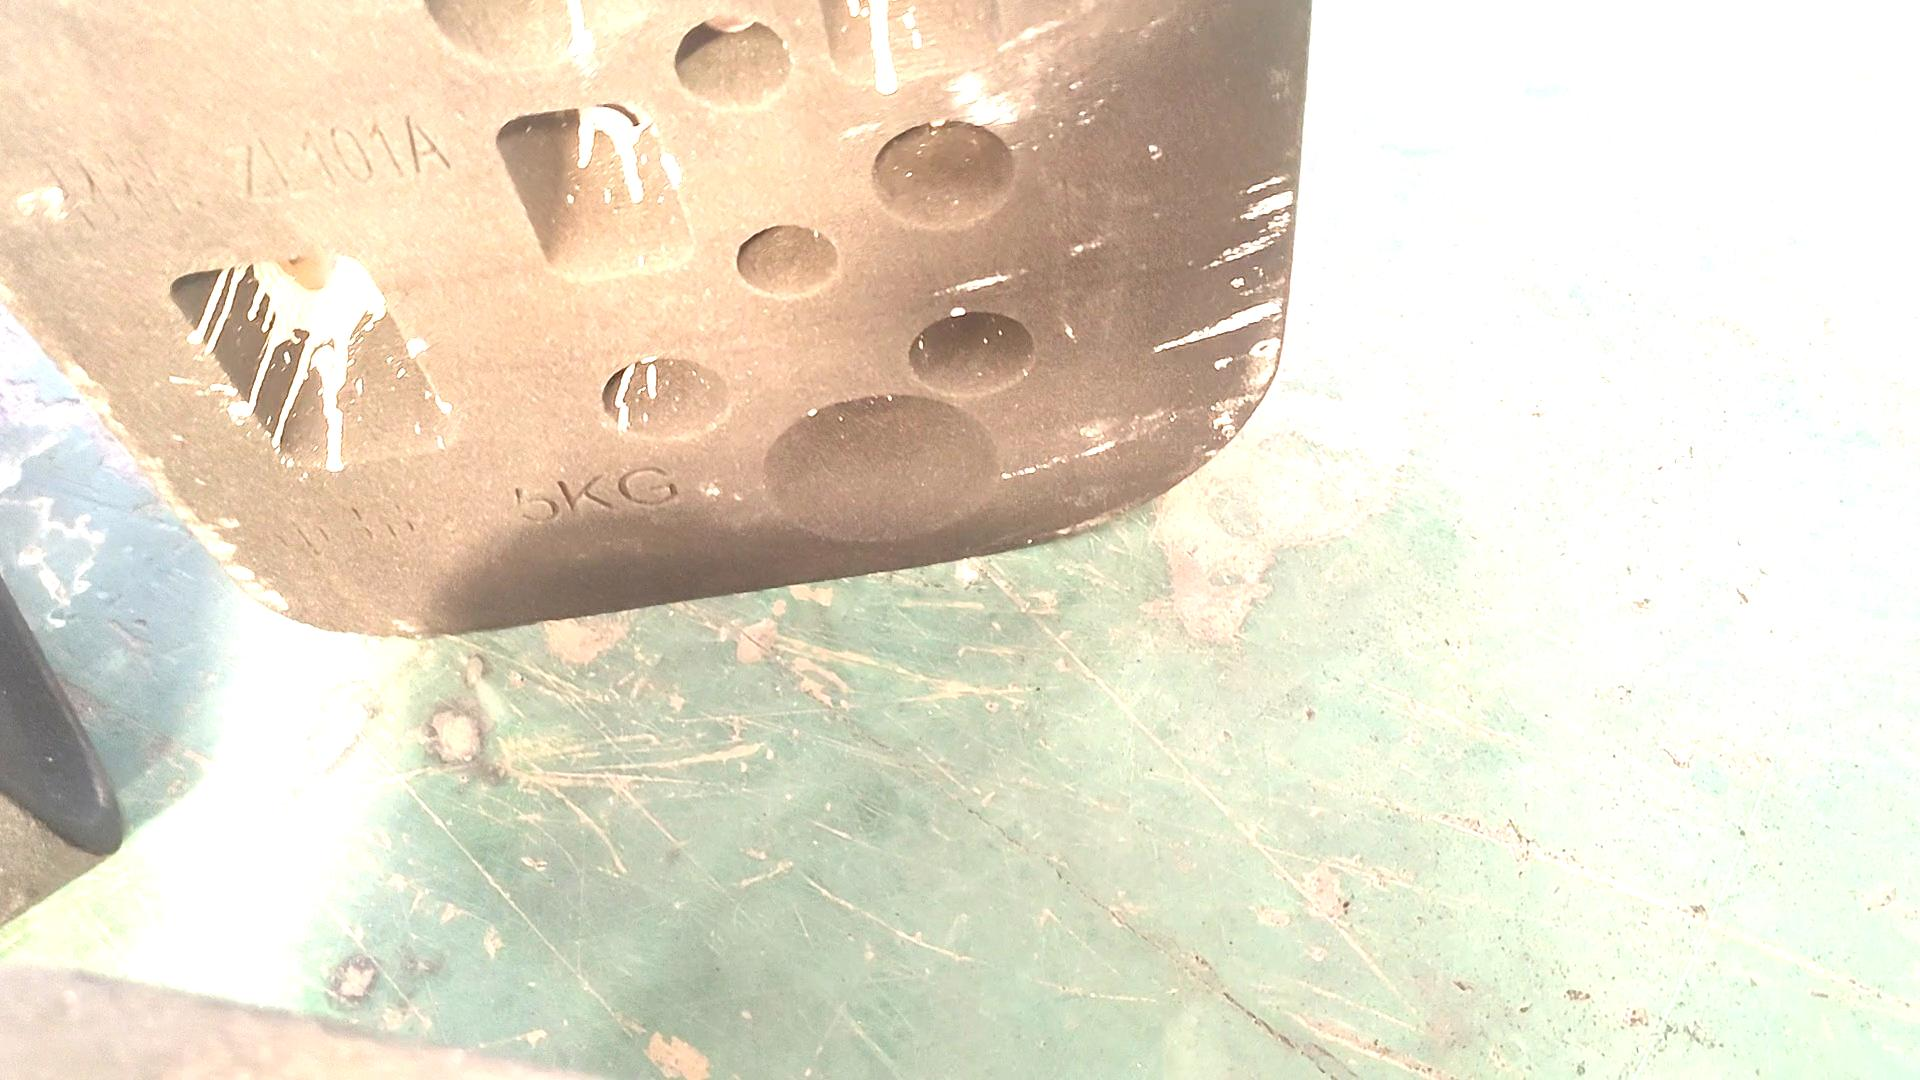pouring hole: (762, 392, 998, 545)
